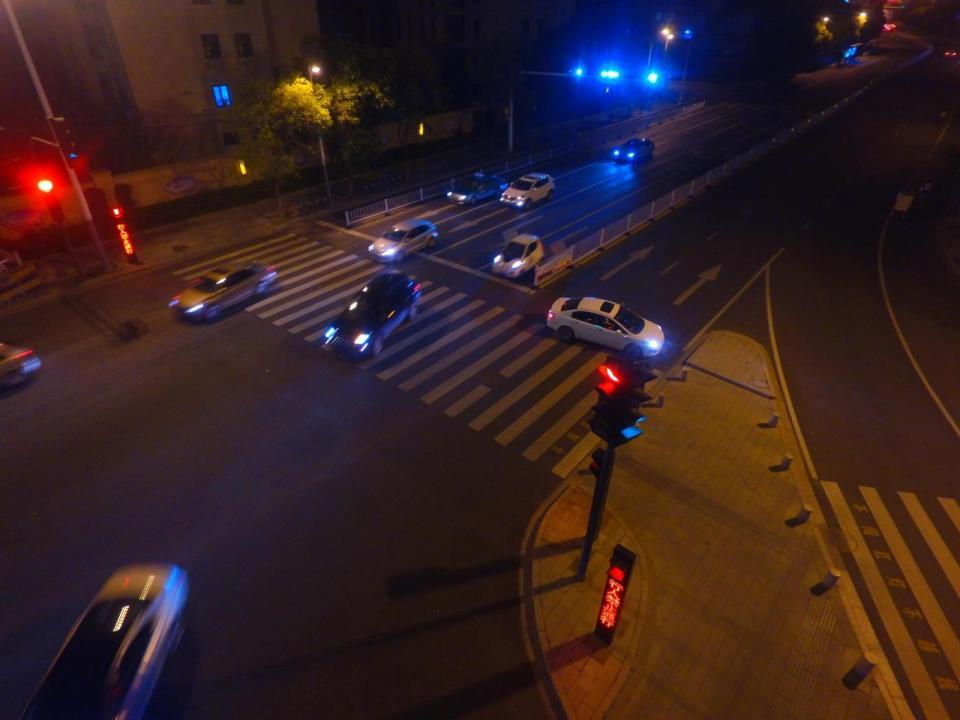car: (16, 560, 193, 717), (324, 272, 425, 362), (548, 296, 662, 362), (170, 258, 276, 321), (366, 219, 438, 264), (497, 171, 554, 212), (491, 235, 543, 279), (446, 172, 507, 207), (0, 338, 39, 392), (612, 134, 654, 166), (943, 46, 958, 61)
